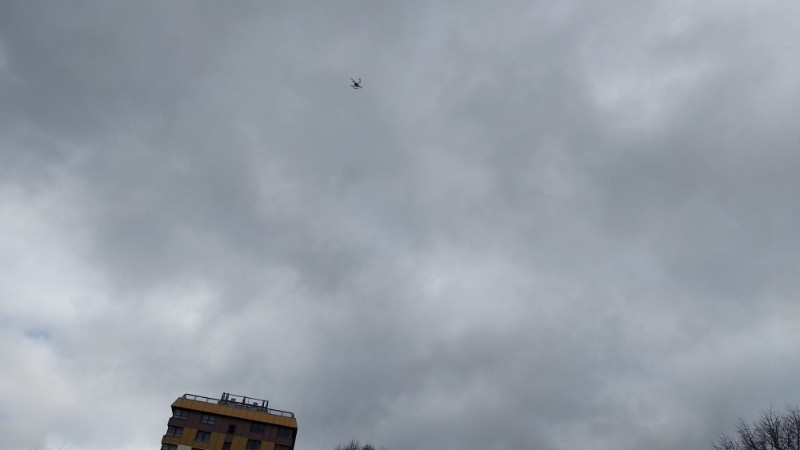drone: (350, 79, 364, 91)
